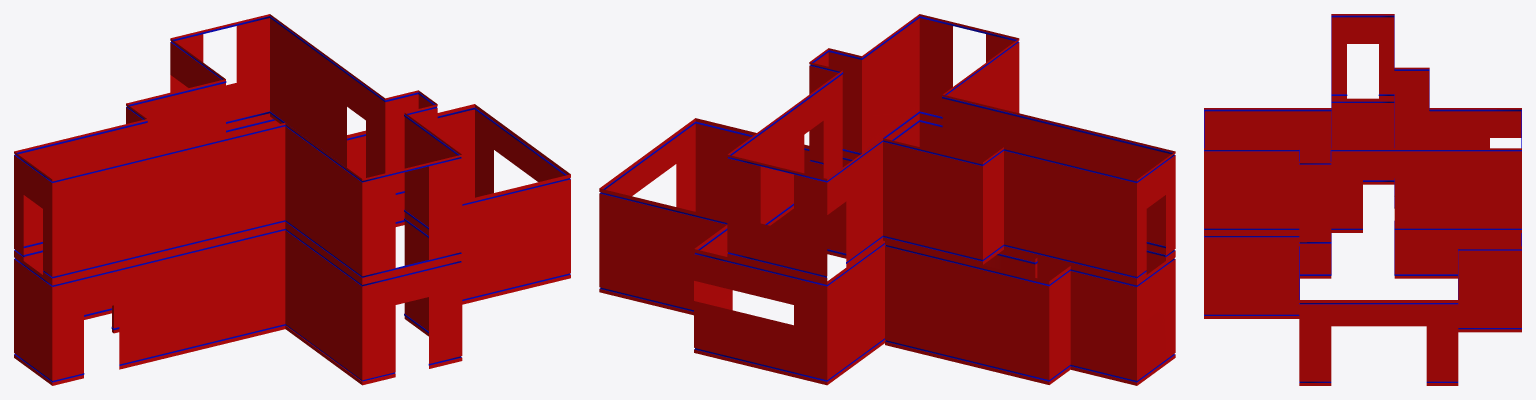
Rendered from WallsComplete.fbx.
3 views of the same model, side by side, from view 1: azimuth 30°, elevation 25°; view 2: azimuth 150°, elevation 25°; view 3: azimuth 270°, elevation 25° (orthographic). The views are drawn at different scales.
Parts seen in each view (by area): view 1: Walls1stFloor1; view 2: Walls1stFloor1; view 3: Walls1stFloor1.
Part boxes in pixels (bbox=[...]): Walls1stFloor1: bbox=[14, 14, 570, 385]; Walls1stFloor1: bbox=[599, 14, 1175, 385]; Walls1stFloor1: bbox=[1204, 14, 1521, 385].
Bounding box in the file's own units: 1500 × 593 × 1000.
